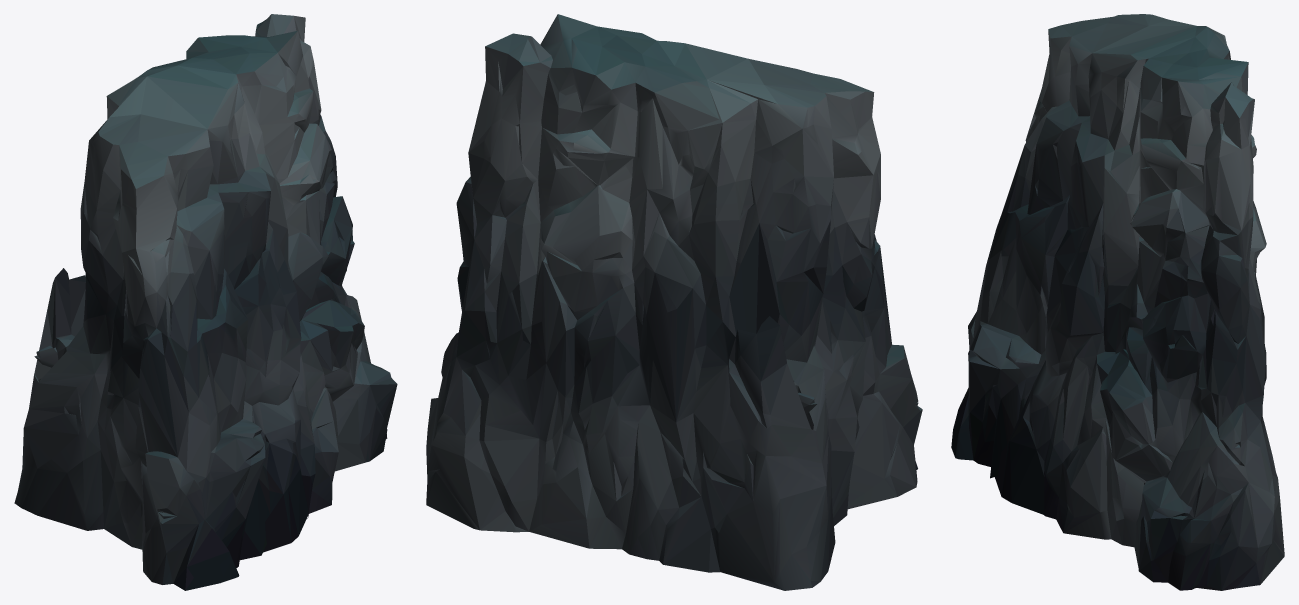
3 views of the same model, side by side, from view 1: azimuth 30°, elevation 25°; view 2: azimuth 150°, elevation 25°; view 3: azimuth 270°, elevation 25° (orthographic). The views are drawn at different scales.
Parts seen in each view (by area): view 1: output_unwrapped; view 2: output_unwrapped; view 3: output_unwrapped.
Part boxes in pixels (<box>): output_unwrapped: <box>14,14,397,590</box>; output_unwrapped: <box>426,14,922,590</box>; output_unwrapped: <box>951,14,1284,590</box>.
Bounding box in the file's own units: 1.6 × 1.9 × 1.24.
